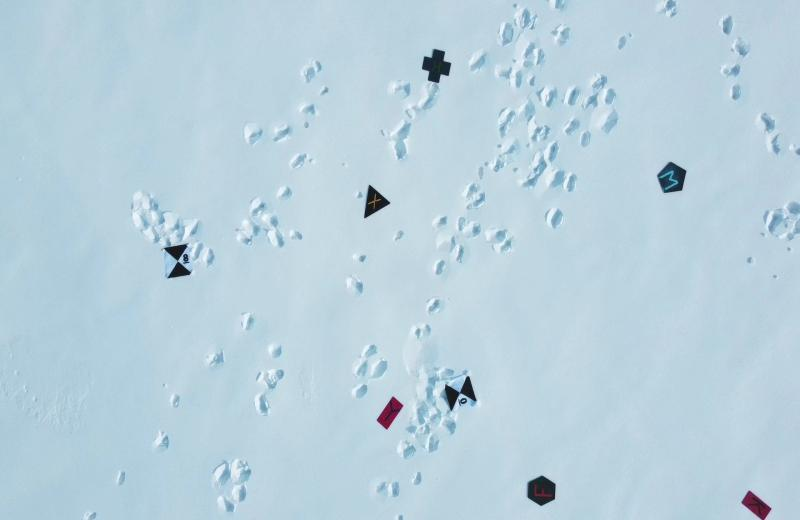Cross: (419, 46, 454, 86)
Hexagon: (523, 470, 557, 508)
Pentagon: (656, 157, 688, 196)
Rectangle: (374, 392, 405, 432), (738, 486, 773, 520)
Triangle: (360, 180, 392, 221)
